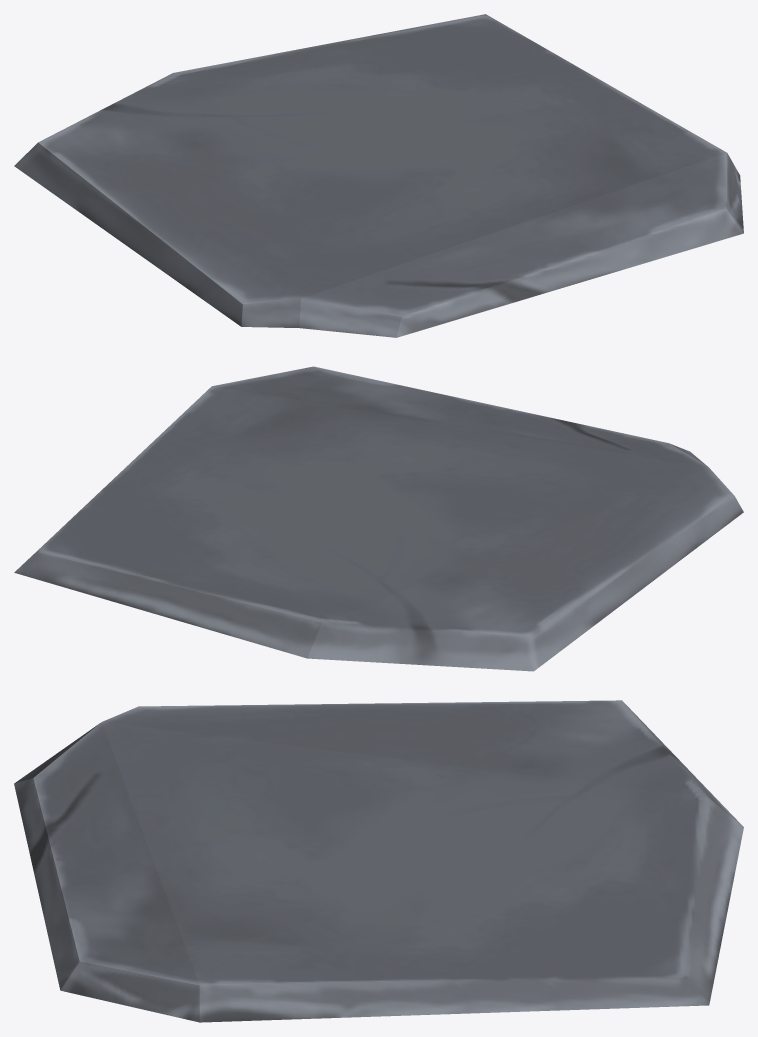
Rendered from floorslab1.FBX.
The picture shows the model from 3 angles, top to bottom: view 1: azimuth 30°, elevation 25°; view 2: azimuth 150°, elevation 25°; view 3: azimuth 270°, elevation 25°; orthographic projection. The views are drawn at different scales.
Parts seen in each view (by area): view 1: Box001; view 2: Box001; view 3: Box001.
Boxes of the visible parts, <box> form: Box001: <box>14,14,743,337</box>; Box001: <box>14,366,743,671</box>; Box001: <box>14,700,743,1022</box>.
Size of the model in its own units: 42.75 by 43.76 by 1.97.
1 material, 1 textured.
